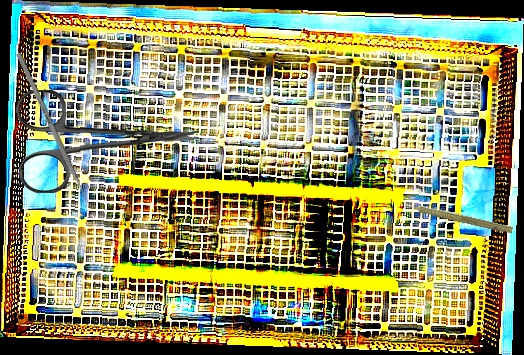Handpiece: (398, 196, 515, 236)
Iris Scissors: (16, 87, 201, 194)
Pusher: (15, 52, 97, 218)
